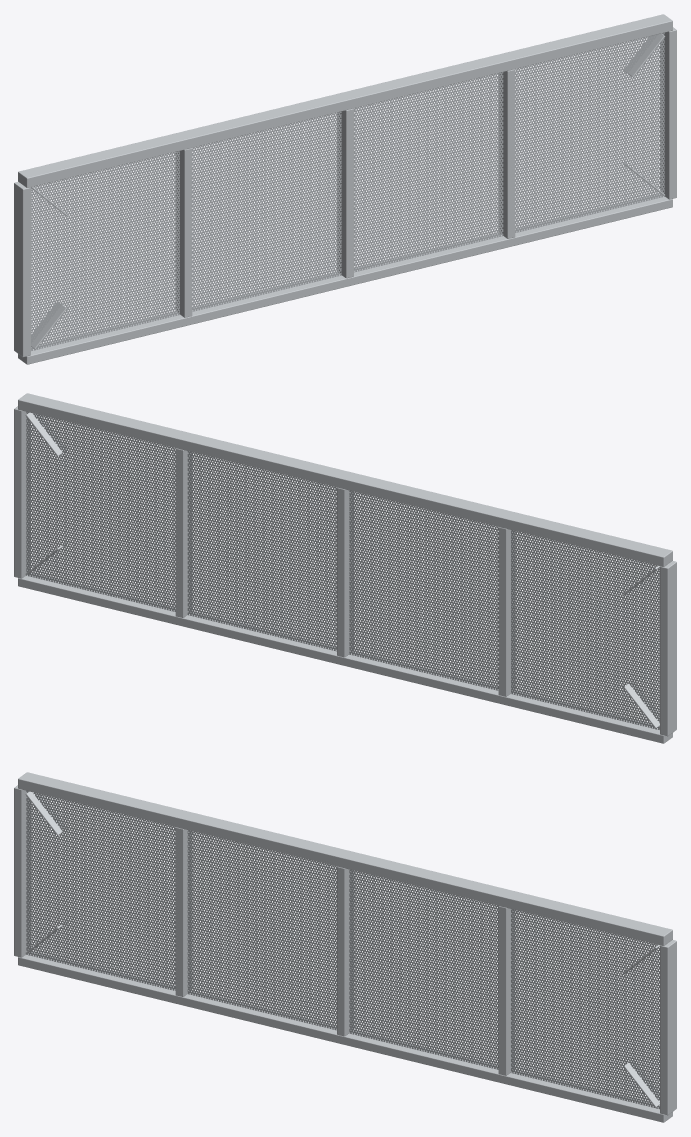
The picture shows the model from 3 angles, top to bottom: view 1: azimuth 30°, elevation 25°; view 2: azimuth 150°, elevation 25°; view 3: azimuth 330°, elevation 25°; orthographic projection.
Visible parts, largest first — view 1: K1_-1_0 blacha, K1_-1_0 gorny, K1_-1_0 dolny, K1_-1_0 pion, K1_-1_0 pion.002, K1_-1_0 pion.004, K1_-1_0 pion.003, K1_-1_0 pion.001; view 2: K1_-1_0 blacha, K1_-1_0 gorny, K1_-1_0 dolny, K1_-1_0 pion, K1_-1_0 pion.002, K1_-1_0 pion.004, K1_-1_0 pion.003, K1_-1_0 pion.001; view 3: K1_-1_0 blacha, K1_-1_0 gorny, K1_-1_0 dolny, K1_-1_0 pion.001, K1_-1_0 pion.004, K1_-1_0 pion.002, K1_-1_0 pion.003, K1_-1_0 pion.
Part boxes in pixels (box(x1,y1,x2,y2)): K1_-1_0 blacha: box(31, 32, 664, 350); K1_-1_0 gorny: box(18, 14, 672, 187); K1_-1_0 dolny: box(18, 193, 672, 364); K1_-1_0 pion: box(14, 182, 30, 357); K1_-1_0 pion.002: box(175, 148, 192, 317); K1_-1_0 pion.004: box(498, 69, 515, 238); K1_-1_0 pion.003: box(337, 108, 353, 278); K1_-1_0 pion.001: box(660, 27, 676, 199); K1_-1_0 blacha: box(26, 411, 659, 729); K1_-1_0 gorny: box(18, 393, 672, 566); K1_-1_0 dolny: box(18, 572, 672, 743); K1_-1_0 pion: box(660, 561, 676, 736); K1_-1_0 pion.002: box(498, 527, 515, 696); K1_-1_0 pion.004: box(175, 448, 192, 617); K1_-1_0 pion.003: box(337, 487, 353, 657); K1_-1_0 pion.001: box(14, 406, 30, 578); K1_-1_0 blacha: box(26, 790, 659, 1109); K1_-1_0 gorny: box(18, 772, 672, 945); K1_-1_0 dolny: box(18, 952, 672, 1122); K1_-1_0 pion.001: box(660, 940, 676, 1115); K1_-1_0 pion.004: box(498, 906, 515, 1075); K1_-1_0 pion.002: box(175, 827, 191, 996); K1_-1_0 pion.003: box(337, 866, 353, 1036); K1_-1_0 pion: box(14, 785, 30, 957).
Size of the model in its own units: 2.04 by 0.555 by 0.05.
Materials: 2 (1 with a texture image).
